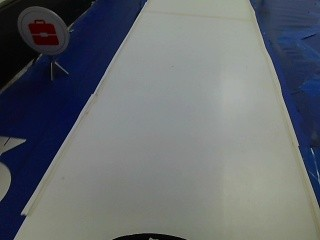company: (16, 8, 70, 56)
